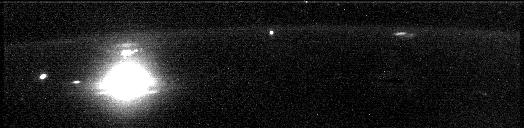positive: (109, 41, 149, 60)
